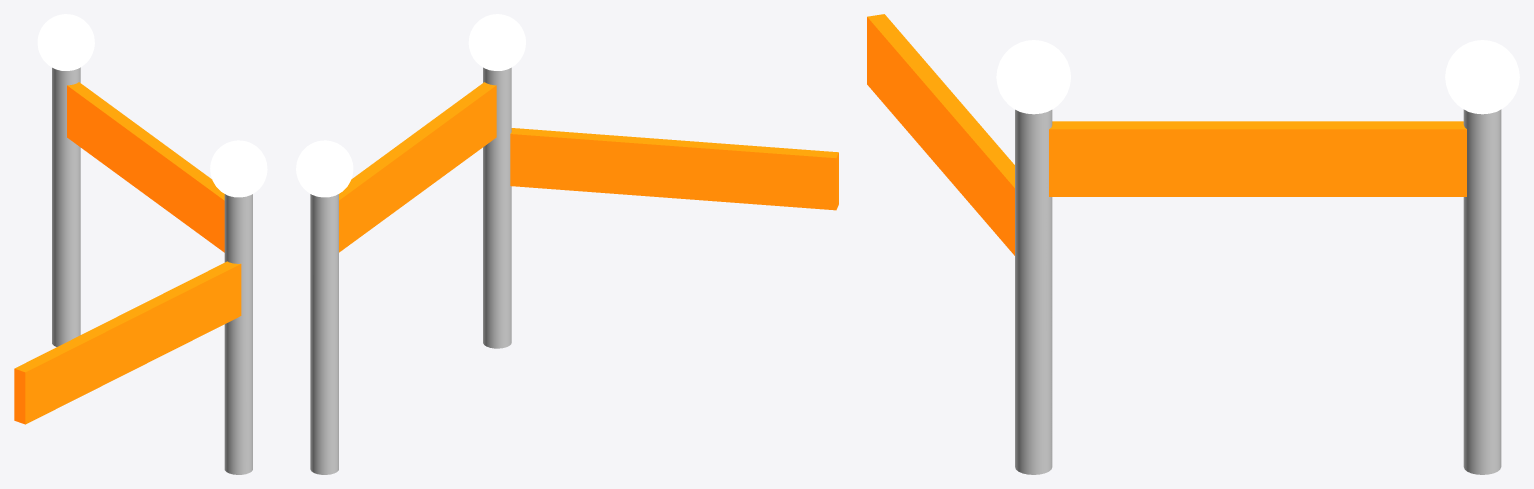
File: StreetDecoOnLamp_2.fbx
3 views of the same model, side by side, from view 1: azimuth 30°, elevation 25°; view 2: azimuth 150°, elevation 25°; view 3: azimuth 270°, elevation 25° (orthographic). The views are drawn at different scales.
Parts seen in each view (by area): view 1: ChineseDeco__30_, ChineseDeco__29_, Lamppost___2_, Lampost__3_, LampLight__2_, LampLight__3_; view 2: ChineseDeco__30_, ChineseDeco__29_, Lamppost___2_, Lampost__3_, LampLight__2_, LampLight__3_; view 3: ChineseDeco__29_, Lamppost___2_, Lampost__3_, ChineseDeco__30_, LampLight__2_, LampLight__3_.
Part boxes in pixels (x1=…): ChineseDeco__30_: x1=14, y1=261, x2=241, y2=424; ChineseDeco__29_: x1=67, y1=82, x2=224, y2=252; Lamppost___2_: x1=52, y1=67, x2=80, y2=346; Lampost__3_: x1=224, y1=194, x2=252, y2=474; LampLight__2_: x1=37, y1=14, x2=94, y2=70; LampLight__3_: x1=210, y1=140, x2=267, y2=197; ChineseDeco__30_: x1=510, y1=128, x2=838, y2=210; ChineseDeco__29_: x1=339, y1=82, x2=496, y2=252; Lamppost___2_: x1=310, y1=194, x2=338, y2=474; Lampost__3_: x1=483, y1=67, x2=511, y2=348; LampLight__2_: x1=296, y1=140, x2=353, y2=197; LampLight__3_: x1=468, y1=14, x2=525, y2=70; ChineseDeco__29_: x1=1049, y1=121, x2=1466, y2=196; Lamppost___2_: x1=1463, y1=109, x2=1501, y2=474; Lampost__3_: x1=1015, y1=109, x2=1052, y2=474; ChineseDeco__30_: x1=867, y1=14, x2=1014, y2=255; LampLight__2_: x1=1445, y1=40, x2=1519, y2=114; LampLight__3_: x1=996, y1=40, x2=1070, y2=114.
Size of the model in its own units: 308 by 312 by 436.
